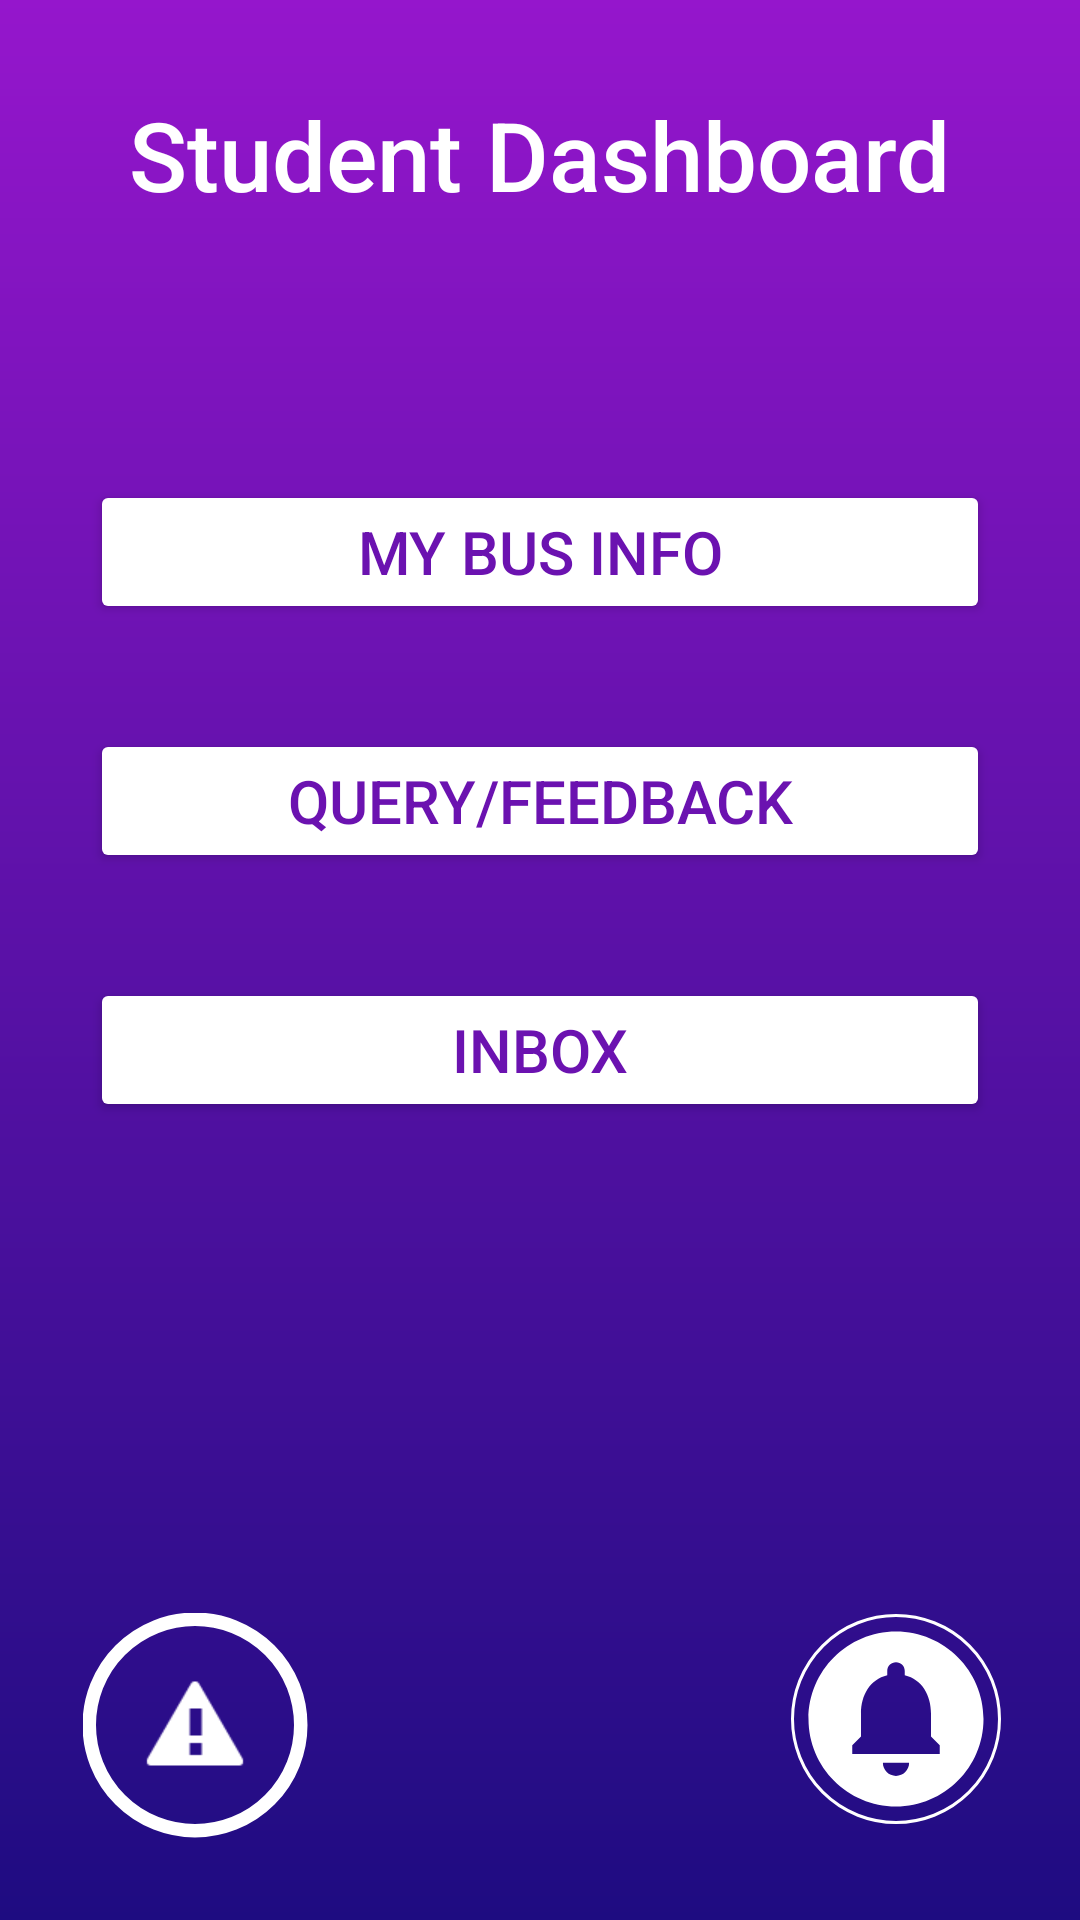

Named icons in this screenshot (1080*1920) and their centers, (x=x, y=y):
circle notifications: (x=896, y=1719)
